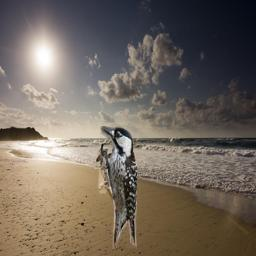Woodpecker: (97, 126, 137, 249)
